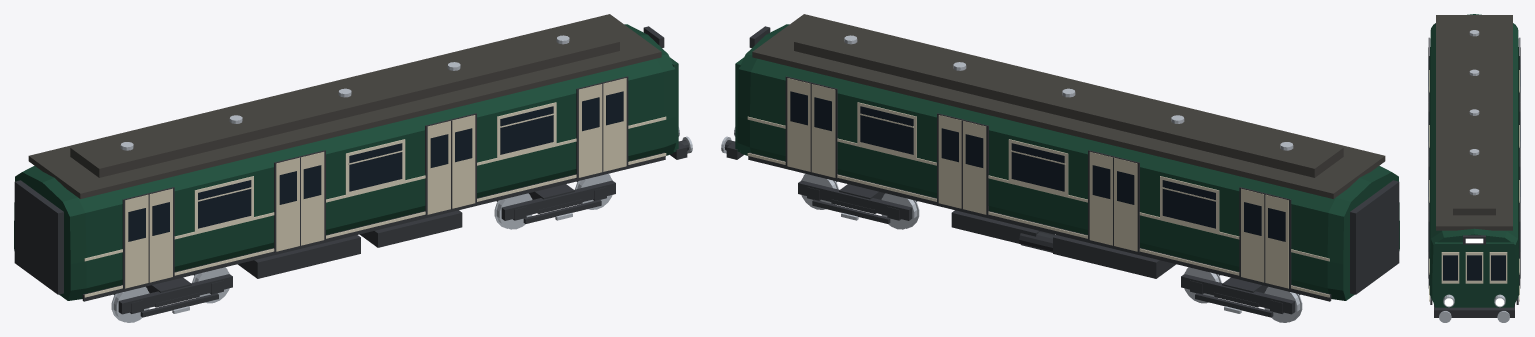
The model's file is sprague_cab.glb.
3 views of the same model, side by side, from view 1: azimuth 30°, elevation 25°; view 2: azimuth 150°, elevation 25°; view 3: azimuth 270°, elevation 25° (orthographic). The views are drawn at different scales.
Parts seen in each view (by area): view 1: sprague_cab; view 2: sprague_cab; view 3: sprague_cab.
Part boxes in pixels (x1,y1,x2,y2): sprague_cab: (14,14,692,322); sprague_cab: (721,14,1399,322); sprague_cab: (1428,14,1520,322).
Bounding box in the file's own units: 14.55 × 3.55 × 2.47.
3 materials, 3 textured.
